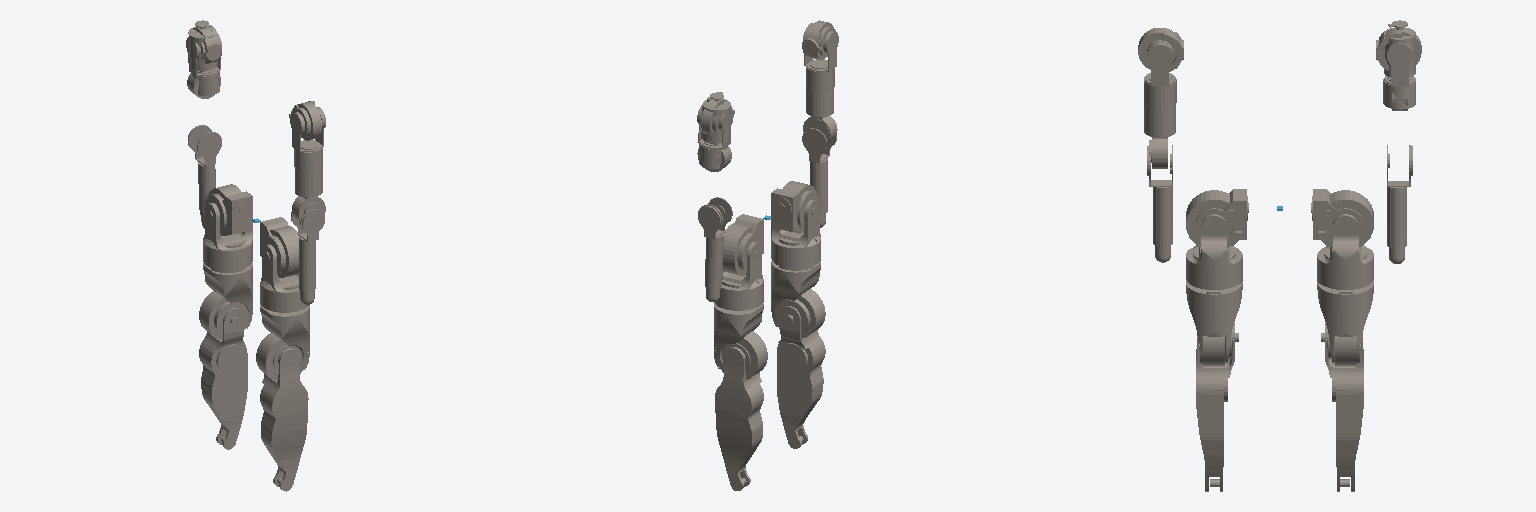
--- Facts derived from the render (not from the file) ---
3 views of the same robot in one strip: view 1: azimuth 30°, elevation 25°; view 2: azimuth 150°, elevation 25°; view 3: azimuth 270°, elevation 25° (orthographic).
Model e3 with 23 links and 22 joints (21 revolute, 1 fixed), rooted at pelvis_link, posed every joint at zero.
Visible links, largest first — view 1: right_knee_link, left_knee_link, left_hip_yaw_link, right_hip_yaw_link, left_hip_roll_link, right_hip_roll_link, right_elbow_link, left_hip_pitch_link, left_elbow_link, right_hip_pitch_link, right_shoulder_roll_link, right_shoulder_yaw_link (+4 smaller); view 2: left_knee_link, right_knee_link, right_hip_yaw_link, left_hip_yaw_link, right_hip_roll_link, left_elbow_link, left_hip_roll_link, right_hip_pitch_link, left_hip_pitch_link, right_elbow_link, right_shoulder_roll_link, right_shoulder_yaw_link (+3 smaller); view 3: left_knee_link, right_knee_link, left_hip_yaw_link, right_hip_yaw_link, left_hip_roll_link, right_hip_roll_link, left_hip_pitch_link, right_hip_pitch_link, left_elbow_link, right_elbow_link, right_shoulder_roll_link, left_shoulder_roll_link (+4 smaller).
Link boxes in pixels (<box>): right_knee_link: <box>260,348,308,491</box>; left_knee_link: <box>199,308,247,449</box>; left_hip_yaw_link: <box>199,263,252,339</box>; right_hip_yaw_link: <box>256,305,309,380</box>; left_hip_roll_link: <box>203,203,252,272</box>; right_hip_roll_link: <box>260,244,308,312</box>; right_elbow_link: <box>291,209,324,304</box>; left_hip_pitch_link: <box>205,184,252,235</box>; left_elbow_link: <box>188,125,221,228</box>; right_hip_pitch_link: <box>260,217,298,277</box>; right_shoulder_roll_link: <box>290,107,325,172</box>; right_shoulder_yaw_link: <box>292,168,325,221</box>; left_knee_link: <box>715,347,763,490</box>; right_knee_link: <box>777,306,825,448</box>; right_hip_yaw_link: <box>771,261,825,338</box>; left_hip_yaw_link: <box>714,303,767,379</box>; right_hip_roll_link: <box>771,200,820,270</box>; left_elbow_link: <box>698,197,732,301</box>; left_hip_roll_link: <box>714,242,763,310</box>; right_hip_pitch_link: <box>771,181,818,233</box>; left_hip_pitch_link: <box>723,214,763,275</box>; right_elbow_link: <box>802,128,836,227</box>; right_shoulder_roll_link: <box>803,31,838,91</box>; right_shoulder_yaw_link: <box>803,88,837,142</box>; left_knee_link: <box>1325,323,1363,491</box>; right_knee_link: <box>1196,323,1234,491</box>; left_hip_yaw_link: <box>1317,280,1373,365</box>; right_hip_yaw_link: <box>1186,280,1242,365</box>; left_hip_roll_link: <box>1317,214,1373,289</box>; right_hip_roll_link: <box>1186,214,1242,289</box>; left_hip_pitch_link: <box>1311,189,1373,247</box>; right_hip_pitch_link: <box>1186,189,1248,247</box>; left_elbow_link: <box>1387,145,1412,263</box>; right_elbow_link: <box>1147,145,1172,262</box>; right_shoulder_roll_link: <box>1144,42,1176,108</box>; left_shoulder_roll_link: <box>1383,43,1415,109</box>.
Size in the robot's own frame: 0.13 by 0.6095 by 1.11 metres.
Meshes: 22 distinct files referenced, 16 mesh visuals loaded (16 binary STL); not drawn: 6 (reference not matched to a file when rendering).

URDF robot description (e3):
<?xml version="1.0" encoding="utf-8"?>
<!-- This URDF was automatically created by SolidWorks to URDF Exporter! Originally created by Stephen Brawner ([email redacted]) 
     Commit Version: 1.6.0-4-g7f85cfe  Build Version: 1.6.7995.38578
     For more information, please see http://wiki.ros.org/sw_urdf_exporter -->
<robot name="e3">
  <!-- <mujoco>
    <compiler meshdir="meshes" discardvisual="false"/>
  </mujoco>
  <link name="world"></link>
  <joint name="floating_base_joint" type="floating">
    <parent link="world"/>
    <child link="pelvis_link"/>
  </joint> -->


  <link
    name="pelvis_link">
    <inertial>
      <origin
        xyz="0.000508 0.000303 0.035758"
        rpy="0 0 0" />
      <mass
        value="5.119835" />
      <inertia
        ixx="0.022863"
        ixy="0.000002"
        ixz="0.000106"
        iyy="0.019513"
        iyz="-0.000153"
        izz="0.012083" />
    </inertial>
    <visual>
      <origin
        xyz="0 0 0"
        rpy="0 0 0" />
      <geometry>
        <mesh
          filename="./meshes/pelvis.STL" />
      </geometry>
      <material
        name="">
        <color
          rgba="0.64706 0.61961 0.58824 1" />
      </material>
    </visual>
    <collision>
      <origin
        xyz="0 0 0"
        rpy="0 0 0" />
      <geometry>
        <mesh filename="meshes/pelvis.STL"/>
      </geometry>
    </collision>
  </link>

  <joint name="imu_joint" type="fixed">
    <origin rpy="0. 0. 0." xyz="0. 0. 0"/>
    <parent link="pelvis_link"/>
    <child link="imu_link"/>
  </joint>

    <!-- Imu link -->
  <link name="imu_link">
    <inertial>
      <mass value="0.01"/>
      <origin rpy="0 0 0" xyz="0 0 0"/>
      <inertia ixx="0.000001" ixy="0" ixz="0" iyy="0.000001" iyz="0" izz="0.000001"/>
    </inertial>
    <visual>
      <origin rpy="0 0 0" xyz="0 0 0"/>
      <geometry>
        <box size="0.015 0.015 0.004"/>
      </geometry>
    </visual>
    <material name="orange">
      <color rgba="255 108 10 255"/>
    </material>
  </link>

    <!-- Torso -->
  <joint name="waist_joint" type="revolute">
    <origin xyz="0 0 0.3763" rpy="0 0 0"/>
    <parent link="pelvis_link"/>
    <child link="torso_link"/>
    <axis xyz="0 0 1"/>
    <limit lower="-1.57" upper="1.57" effort="144" velocity="20"/>
  </joint>
  
  <link name="torso_link">
    <inertial>
      <origin xyz="-0.006939 -0.002038 -0.085719" rpy="0 0 0"/>
      <mass value="13.759631"/>
      <inertia ixx="0.327498" ixy="0.000705" ixz="0.001071" iyy="0.269489" iyz="-0.004427" izz="0.140454"/>
    </inertial>
    <visual>
      <origin xyz="0 0 0.0" rpy="0 0 0"/>
      <geometry>
        <mesh filename="meshes/torso_link.STL"/>
      </geometry>
      <material name="white">
        <color rgba="0.7 0.7 0.7 1"/>
      </material>
    </visual>
    <collision>
      <origin xyz="0 0 0.0" rpy="0 0 0"/>
      <geometry>
        <mesh filename="meshes/torso_link.STL"/>
      </geometry>
    </collision>
  </link>

  <link
    name="left_hip_pitch_link">
    <inertial>
      <origin  xyz="0.011949 -0.00848 -0.026594"  rpy="0 0 0" />
      <mass value="1.816901" />
      <inertia ixx="0.001651"  ixy="-0.000034"  ixz="0.000015"  iyy="0.000959"  iyz="0.000201"  izz="0.001576" />
    </inertial>
    <visual>
      <origin
        xyz="0 0 0"
        rpy="0 0 0" />
      <geometry>
        <mesh
          filename="./meshes/leg_l1_link.STL" />
      </geometry>
      <material
        name="">
        <color
          rgba="0.64706 0.61961 0.58824 1" />
      </material>
    </visual>
    <collision>
      <origin xyz="0 0 0.0" rpy="0 0 0"/>
      <geometry>
        <mesh filename="meshes/leg_l1_link.STL"/>
      </geometry>
    </collision>
  </link>
  <joint
    name="left_hip_pitch_joint"
    type="revolute">
    <origin
      xyz="0 0.1413 0"
      rpy="0 0 0" />
    <parent
      link="pelvis_link" />
    <child
      link="left_hip_pitch_link" />
    <axis
      xyz="0 1 0" />
    <limit
      lower="-2.53"
      upper="2.53"
      effort="144"
      velocity="20" />
  </joint>
  <link
    name="left_hip_roll_link">
    <inertial>
      <origin  xyz="-0.002932 0.000098 -0.097396"  rpy="0 0 0" />
      <mass  value="2.261445" />
      <inertia   ixx="0.005632" ixy="-0.000002" ixz="0.000169"  iyy="0.006378" iyz="0.000004" izz="0.004402" />
    </inertial>
    <visual>
      <origin
        xyz="0 0 0"
        rpy="0 0 0" />
      <geometry>
         
        <mesh
          filename="./meshes/leg_l2_link_144.STL" />
      </geometry>
      <material
        name="">
        <color
          rgba="0.64706 0.61961 0.58824 1" />
      </material>
    </visual>
    <!-- <collision>
      <origin
        xyz="0 0 0"
        rpy="0 1.57 0" />
      <geometry>
         <cylinder length="0.05" radius="0.06"/>
      </geometry>
    </collision> -->
    <collision>
      <origin xyz="0 0 0.0" rpy="0 0 0"/>
      <geometry>
        <mesh filename="meshes/leg_l2_link_144.STL"/>
      </geometry>
    </collision>
  </link>
  <joint
    name="left_hip_roll_joint"
    type="revolute">
    <origin
      xyz="0.0 0 -0.0285"
      rpy="0 0 0" />
    <parent
      link="left_hip_pitch_link" />
    <child
      link="left_hip_roll_link" />
    <axis
      xyz="1 0 0" />
    <limit
      lower="-0.611"
      upper="3.23"
      effort="144"
      velocity="20" />
  </joint>
  <link
    name="left_hip_yaw_link">
    <inertial>
      <origin xyz="-0.001336 -0.000844 -0.104378" rpy="0 0 0" />
      <mass value="2.233223" />
      <inertia  ixx="0.005397" ixy="-0.000015"  ixz="-0.000535" iyy="0.0057" iyz="0.000012"  izz="0.001962" />
    </inertial>
    <visual>
      <origin
        xyz="0 0 0"
        rpy="0 0 0" />
      <geometry>
        <mesh
          filename="./meshes/leg_l3_link_144.STL" />
      </geometry>
      <material
        name="">
        <color
          rgba="0.64706 0.61961 0.58824 1" />
      </material>
    </visual>
    <!-- <collision>
      <origin
        xyz="0 0 -0.05"
        rpy="0 0 0" />
      <geometry>
          <box size="0.05 0.05 0.15"/>
      </geometry>
    </collision> -->
    <collision>
      <origin xyz="0 0 0.0" rpy="0 0 0"/>
      <geometry>
        <mesh filename="meshes/leg_l3_link_144.STL"/>
      </geometry>
    </collision>
  </link>
  <joint
    name="left_hip_yaw_joint"
    type="revolute">
    <origin
      xyz="-0.0 0 -0.1458"
      rpy="0 0 0" />
    <parent
      link="left_hip_roll_link" />
    <child
      link="left_hip_yaw_link" />
    <axis
      xyz="0 0 1" />
    <limit
      lower="-1.05"
      upper="1.05"
      effort="144"
      velocity="20" />
  </joint>
  <link name="left_knee_link">
    <inertial>
      <origin  xyz="0.001004 0.001585 -0.170623"  rpy="0 0 0" />
      <mass  value="2.889750" />
      <inertia ixx="0.020628"  ixy="0.000043" ixz="0.000485"  iyy="0.021234"  iyz="-0.000475"  izz="0.002830" />
    </inertial>
    <visual>
      <origin
        xyz="0 0 0"
        rpy="0 0 0" />
      <geometry>
        <mesh
          filename="./meshes/leg_l4_link.STL" />
      </geometry>
      <material
        name="">
        <color
          rgba="0.64706 0.61961 0.58824 1" />
      </material>
    </visual>
    <collision>
      <origin
        xyz="0 0 -0.2"
        rpy="0 0 0" />
      <geometry>
          <box size="0.05 0.05 0.2"/>
      </geometry>
    </collision>
  </link>
  <joint
    name="left_knee_joint"
    type="revolute">
    <origin
      xyz="-0.008 0 -0.1317"
      rpy="0 0 0" />
    <parent
      link="left_hip_yaw_link" />
    <child
      link="left_knee_link" />
    <axis
      xyz="0 1 0" />
    <limit
      lower="-0.349"
      upper="2.355"
      effort="144"
      velocity="20" />
  </joint>

  <link
     name="left_ankle_pitch_link">
    <inertial>
      <origin  xyz="0 0 0"  rpy="0 0 0" />
      <mass  value="0.088534" />
       <!-- <inertia ixx="0.01" ixy="0" ixz="0.0" iyy="0.01" iyz="0" izz="0.01"/> -->
      <inertia
        ixx="3.0975E-05"
        ixy="0"
        ixz="0"
        iyy="3.1274E-05"
        iyz="0"
        izz="3.1681E-05" />
    </inertial>
    <visual>
      <origin
        xyz="0 0 0"
        rpy="0 0 0" />
      <geometry>
        <mesh
          filename="./meshes/leg_l5_link.STL" />
      </geometry>
      <material
        name="">
        <color
          rgba="0.64706 0.61961 0.58824 1" />
      </material>
    </visual>
  </link>
  
  <joint
    name="left_ankle_pitch_joint"
    type="revolute">
    <origin
      xyz="0 0 -0.35"
      rpy="0 0 0" />
    <parent
      link="left_knee_link" />
    <child
      link="left_ankle_pitch_link" />
    <axis
      xyz="0 1 0" />
    <limit
      lower="-0.785"
      upper="1.05"
      effort="48"
      velocity="20" />
  </joint>
  <link
    name="left_ankle_roll_link">
    <inertial>
      <origin xyz="-0.000705 1.4E-05 -0.028746"  rpy="0 0 0" />
      <mass  value="0.611" />
      <inertia ixx="0.01" ixy="0" ixz="0.0" iyy="0.01" iyz="0" izz="0.01"/>
      <!-- <inertia
        ixx="0.00105334189"
        ixy="-0.0"
        ixz="0.0"
        iyy="0.00606712875"
        iyz="0.0"
        izz="0.00646061141" /> -->
    </inertial>

    <visual>
      <origin
        xyz="0 0 0"
        rpy="0 0 0" />
      <geometry>
        <mesh
          filename="./meshes/leg_l6_link.STL" />
      </geometry>
      <material
        name="">
        <color
          rgba="0.64706 0.61961 0.58824 1" />
      </material>
    </visual>
    <collision>
      <origin rpy="0 0 0" xyz="0.01 0 -0.05"/>
      <geometry>
        <box size="0.22 0.06 0.01"/>
      </geometry>
    </collision>
     <!-- <collision>
      <origin
        xyz="0 0 0"
        rpy="0 0 0" />
      <geometry>
        <mesh
          filename="../meshes/leg_l6_link.STL" />
      </geometry>
    </collision> -->
  </link>
  <joint
    name="left_ankle_roll_joint"
    type="revolute">
    <origin
      xyz="0 0 0"
      rpy="0 0 0" />
    <parent
      link="left_ankle_pitch_link" />
    <child
      link="left_ankle_roll_link" />
    <axis
      xyz="1 0 0" />
    <limit
      lower="-0.26"
      upper="0.26"
      effort="48"
      velocity="20" />
  </joint>

  <link
   name="right_hip_pitch_link">
    <inertial>
      <origin  xyz="0.011914 0.008479 -0.026587"  rpy="0 0 0" />
      <mass value="1.816858" />
      <inertia ixx="0.001651"  ixy="0.000034"  ixz="0.000015"  iyy="0.000957"  iyz="-0.000201"  izz="0.001575" />
    </inertial>
    <visual>
      <origin
        xyz="0 0 0"
        rpy="0 0 0" />
      <geometry>
        <mesh
          filename="./meshes/leg_r1_link.STL" />
      </geometry>
      <material
        name="">
        <color
          rgba="0.64706 0.61961 0.58824 1" />
      </material>
    </visual>
    <collision>
      <origin
        xyz="0 0 0"
        rpy="0 0 0" />
      <geometry>
        <mesh
          filename="./meshes/leg_r1_link.STL" />
      </geometry>
    </collision>
  </link>
  <joint
    name="right_hip_pitch_joint"
    type="revolute">
    <origin
      xyz="0 -0.1413 0"
      rpy="0 0 0" />
    <parent
      link="pelvis_link" />
    <child
      link="right_hip_pitch_link" />
    <axis
      xyz="0 1 0" />
    <limit
      lower="-2.53"
      upper="2.53"
      effort="144"
      velocity="20" />
  </joint>
  <link
    name="right_hip_roll_link">
    <inertial>
      <origin  xyz="-0.002874 0.000215 -0.097305"  rpy="0 0 0" />
      <mass  value="2.020075" />
      <inertia   ixx="0.005648" ixy="-3E-6" ixz="0.000160"  iyy="0.006397" iyz="-0.000002" izz="0.004413" />
    </inertial>
    <visual>
      <origin
        xyz="0 0 0"
        rpy="0 0 0" />
      <geometry>
        <mesh
          filename="./meshes/leg_r2_link_144.STL" />
      </geometry>
      <material
        name="">
        <color
          rgba="0.64706 0.61961 0.58824 1" />
      </material>
    </visual>
    <!-- <collision>
      <origin
        xyz="0 0 0"
        rpy="0 1.57 0" />
      <geometry>
            <cylinder length="0.05" radius="0.06"/>
      </geometry>
    </collision> -->
    <collision>
      <origin
        xyz="0 0 0"
        rpy="0 0 0" />
      <geometry>
        <mesh
          filename="./meshes/leg_r2_link_144.STL" />
      </geometry>
    </collision>
  </link>
  <joint
    name="right_hip_roll_joint"
    type="revolute">
    <origin
      xyz="0 0 -0.0285"
      rpy="0 0 0" />
    <parent
      link="right_hip_pitch_link" />
    <child
      link="right_hip_roll_link" />
    <axis
      xyz="1 0 0" />
    <limit
      lower="-3.23"
      upper="0.611"
      effort="144"
      velocity="20" />
  </joint>
  <link
    name="right_hip_yaw_link">
    <inertial>
      <origin xyz="0.000912 0.001350 -0.104391" rpy="0 0 0" />
      <mass value="2.231719" />
      <inertia  ixx="0.005690" ixy="-0.000016"  ixz="-0.000008" iyy="0.005388" iyz="0.000535"  izz="0.001958" />
    </inertial>
    <visual>
      <origin
        xyz="0 0 0"
        rpy="0 0 0" />
      <geometry>
        <mesh
          filename="./meshes/leg_r3_link_144.STL" />
      </geometry>
      <material
        name="">
        <color
          rgba="0.64706 0.61961 0.58824 1" />
      </material>
    </visual>
    <!-- <collision>
      <origin
        xyz="0 0 -0.05"
        rpy="0 0 0" />
      <geometry>
           <box size="0.05 0.05 0.15"/>
      </geometry>
    </collision> -->
    <collision>
      <origin
        xyz="0 0 0"
        rpy="0 0 0" />
      <geometry>
        <mesh
          filename="./meshes/leg_r3_link_144.STL" />
      </geometry>
    </collision>
  </link>
  <joint
    name="right_hip_yaw_joint"
    type="revolute">
    <origin
      xyz="0 0 -0.1458"
      rpy="0 0 0" />
    <parent
      link="right_hip_roll_link" />
    <child
      link="right_hip_yaw_link" />
    <axis
      xyz="0 0 1" />
    <limit
      lower="-1.05"
      upper="1.05"
      effort="144"
      velocity="20" />
  </joint>
  <link
    name="right_knee_link">
    <inertial>
      <origin  xyz="-0.001668 -0.001457 -0.178503"  rpy="0 0 0" />
      <mass  value="2.866292" />
      <inertia ixx="0.022193"  ixy="-0.000046" ixz="-0.000519"  iyy="0.023014"  iyz="0.000295"  izz="0.002999" />
    </inertial>
    <visual>
      <origin
        xyz="0 0 0"
        rpy="0 0 0" />
      <geometry>
        <mesh
          filename="./meshes/leg_r4_link.STL" />
      </geometry>
      <material
        name="">
        <color
          rgba="0.64706 0.61961 0.58824 1" />
      </material>
    </visual>
    <collision>
      <origin
        xyz="0 0 -0.2"
        rpy="0 0 0" />
      <geometry>
          <box size="0.05 0.05 0.2"/>
      </geometry>
    </collision>
  </link>
  <joint
    name="right_knee_joint"
    type="revolute">
    <origin
      xyz="-0.008 0 -0.1317"
      rpy="0 0 0" />
    <parent
      link="right_hip_yaw_link" />
    <child
      link="right_knee_link" />
    <axis
      xyz="0 1 0" />
    <limit
      lower="-0.349"
      upper="2.355"
      effort="144"
      velocity="20" />
  </joint>

  <link name="right_ankle_pitch_link">
    <inertial>
      <origin  xyz="0 0 0"  rpy="0 0 0" />
      <mass  value="0.088534" />
      <!-- <inertia ixx="0.01" ixy="0" ixz="0" iyy="0.01" iyz="0" izz="0.01"/> -->
      <inertia
        ixx="3.0975E-05"
        ixy="0"
        ixz="0"
        iyy="3.1274E-05"
        iyz="0"
        izz="3.1274E-05" />

    </inertial>

    <visual>
      <origin
        xyz="0 0 0"
        rpy="0 0 0" />
      <geometry>
        <mesh
          filename="./meshes/leg_r5_link.STL" />
      </geometry>
      <material
        name="">
        <color
          rgba="0.64706 0.61961 0.58824 1" />
      </material>
    </visual>
  </link>
  <joint
    name="right_ankle_pitch_joint"
    type="revolute">
    <origin
      xyz="0 0 -0.35"
      rpy="0 0 0" />
    <parent
      link="right_knee_link" />
    <child
      link="right_ankle_pitch_link" />
    <axis
      xyz="0 1 0" />
    <limit
      lower="-0.785"
      upper="1.05"
      effort="48"
      velocity="20" />
  </joint>
  <link
    name="right_ankle_roll_link">
    <inertial>
      <origin xyz="-0.000705 1.4E-05 -0.028746"  rpy="0 0 0" />
      <mass  value="0.611" />
      <inertia ixx="0.01" ixy="0" ixz="0.0" iyy="0.01" iyz="0" izz="0.01"/>
      <!-- <inertia
        ixx="0.00105336111"
        ixy="0.0"
        ixz="0.0"
        iyy="0.00606728572"
        iyz="-0.0"
        izz="0.00646075577" /> -->
    </inertial>

    <visual>
      <origin
        xyz="0 0 0"
        rpy="0 0 0" />
      <geometry>
        <mesh
          filename="./meshes/leg_r6_link.STL" />
      </geometry>
      <material
        name="">
        <color
          rgba="0.64706 0.61961 0.58824 1" />
      </material>
    </visual>
    <collision>
      <origin rpy="0 0 0" xyz="0.01 0 -0.05"/>
      <geometry>
        <box size="0.22 0.06 0.01"/>
      </geometry>
    </collision>
    <!-- <collision>
      <origin
        xyz="0 0 0"
        rpy="0 0 0" />
      <geometry>
        <mesh
          filename="../meshes/leg_r6_link.STL" />
      </geometry>
    </collision> -->
  </link>
  <joint
    name="right_ankle_roll_joint"
    type="revolute">
    <origin
      xyz="0 0 0"
      rpy="0 0 0" />
    <parent
      link="right_ankle_pitch_link" />
    <child
      link="right_ankle_roll_link" />
    <axis
      xyz="1 0 0" />
    <limit
      lower="-0.26"
      upper="0.26"
      effort="48"
      velocity="20" />
  </joint>
  <link
    name="left_shoulder_pitch_link">
    <inertial>
      <origin  xyz="-0.003432 -0.009458 -0.00891"  rpy="0 0 0" />
      <mass  value="0.859213" />
      <inertia ixx="0.001249"  ixy="0.000029"  ixz="0.000022"  iyy="0.000590"  iyz="0.000026" izz="0.000975" />
    </inertial>
    <visual>
      <origin
        xyz="0 0 0"
        rpy="0 0 0" />
      <geometry>
        <mesh
          filename="meshes/arm_l1_link.STL" />
      </geometry>
      <material
        name="">
        <color
          rgba="0.64706 0.61961 0.58824 1" />
      </material>
    </visual>
    <!-- <collision>
      <origin
        xyz="0 0 0"
        rpy="0 0 0" />
      <geometry>
        <mesh
          filename="meshes/arm_l1_link.STL" />
      </geometry>
    </collision> -->
  </link>

  <joint
    name="left_shoulder_pitch_joint"
    type="revolute">
    <origin
      xyz="0 0.25799 0.0"
      rpy="0 0 0" />
    <parent
      link="torso_link" />
    <child
      link="left_shoulder_pitch_link" />
    <axis
      xyz="0 1 0" />
    <limit
      lower="-2.74"
      upper="1.96"
      effort="24"
      velocity="20" />
  </joint>

  <link
    name="left_shoulder_roll_link">
    <inertial>
      <origin xyz="0.004195 0.000475 -0.057018"  rpy="0 0 0" />
      <mass  value="0.701407" />
      <inertia  ixx="0.001561"  ixy="-0.000083"  ixz="-0.000173"  iyy="0.001606"  iyz="0.000003"  izz="0.000973" />
    </inertial>
    <visual>
      <origin
        xyz="0 0 0"
        rpy="0 0 0" />
      <geometry>
        <mesh
          filename="meshes/arm_l2_link.STL" />
      </geometry>
      <material
        name="">
        <color
          rgba="0.64706 0.61961 0.58824 1" />
      </material>
    </visual>
    <!-- <collision>
      <origin
        xyz="0 0 0"
        rpy="0 0 0" />
      <geometry>
        <mesh
          filename="meshes/arm_l2_link.STL" />
      </geometry>
    </collision> -->
  </link>

  <joint
    name="left_shoulder_roll_joint"
    type="revolute">
    <origin
      xyz="0 0 0"
      rpy="0 0 0" />
    <parent
      link="left_shoulder_pitch_link" />
    <child
      link="left_shoulder_roll_link" />
    <axis
      xyz="1 0 0.0" />
    <limit
      lower="-0.17"
      upper="3.01"
      effort="24"
      velocity="20" />
  </joint>
  <link
    name="left_shoulder_yaw_link">
    <inertial>
      <origin xyz="-0.000223 0.000795 -0.127372"  rpy="0 0 0" />
      <mass  value="0.541958" />
      <inertia  ixx="0.001426"  ixy="-0.000028"  ixz="0.000073"  iyy="0.001848"  iyz="-0.000004"  izz="0.000644" />
    </inertial>
    <visual>
      <origin
        xyz="0 0 0"
        rpy="0 0 0" />
      <geometry>
        <mesh
          filename="meshes/arm_l3_link.STL" />
      </geometry>
      <material
        name="">
        <color
          rgba="0.64706 0.61961 0.58824 1" />
      </material>
    </visual>
    <collision>
      <origin
        xyz="0 0 0"
        rpy="0 0 0" />
      <geometry>
        <mesh
          filename="meshes/arm_l3_link.STL" />
      </geometry>
    </collision>
  </link>
  <joint
    name="left_shoulder_yaw_joint"
    type="revolute">
    <origin
      xyz="0 0 -0.1019"
      rpy="0 0 0" />
    <parent
      link="left_shoulder_roll_link" />
    <child
      link="left_shoulder_yaw_link" />
    <axis
      xyz="0 0 1" />
    <limit
      lower="-3.14"
      upper="1.57"
      effort="5"
      velocity="20" />
  </joint>
 <link
    name="left_elbow_link">
    <inertial>
      <origin xyz="0.103629 0.001055 -0.003321"  rpy="0 0 0" />
      <mass  value="0.368568" />
      <inertia  ixx="0.000281"  ixy="0.0000025"  ixz="-0.000126"  iyy="0.002877"  iyz="0.000002"  izz="0.002879" />
    </inertial>
    <visual>
      <origin
        xyz="0 0 0"
        rpy="0 0 0" />
      <geometry>
        <mesh
          filename="meshes/arm_l4_link.STL" />
      </geometry>
      <material
        name="">
        <color
          rgba="0.64706 0.61961 0.58824 1" />
      </material>
    </visual>
    <collision>
      <origin
        xyz="0 0 0"
        rpy="0 0 0" />
      <geometry>
        <mesh
          filename="meshes/arm_l4_link.STL" />
      </geometry>
    </collision>
  </link>
  <joint
    name="left_elbow_joint"
    type="revolute">
    <origin
      xyz="0 -0.0062 -0.1616"
      rpy="0 0 0" />
    <parent
      link="left_shoulder_yaw_link" />
    <child
      link="left_elbow_link" />
    <axis
      xyz="0 1 0" />
    <limit
      lower="-0.9"
      upper="1.57"
      effort="5"
      velocity="20" />
  </joint>

  <link
    name="right_shoulder_pitch_link">
     <inertial>
      <origin  xyz="-0.003672 0.009404 -0.000747"  rpy="0 0 0" />
      <mass  value="0.870023" />
      <inertia ixx="0.001279"  ixy="-0.000030"  ixz="0.000016"  iyy="0.000567"  iyz="-0.000017" izz="0.001006" />
    </inertial>
    <visual>
      <origin
        xyz="0 0 0"
        rpy="0 0 0" />
      <geometry>
        <mesh
          filename="meshes/arm_r1_link.STL" />
      </geometry>
      <material
        name="">
        <color
          rgba="0.64706 0.61961 0.58824 1" />
      </material>
    </visual>
    <!-- <collision>
      <origin
        xyz="0 0 0"
        rpy="0 0 0" />
      <geometry>
        <mesh
          filename="meshes/arm_r1_link.STL" />
      </geometry>
    </collision> -->
  </link>

  <joint
    name="right_shoulder_pitch_joint"
    type="revolute">
    <origin
      xyz="0 -0.25799 0.0"
      rpy="0 0 0" />
    <parent
      link="torso_link" />
    <child
      link="right_shoulder_pitch_link" />
    <axis
      xyz="0 1 0" />
    <limit
      lower="-2.74"
      upper="1.96"
      effort="24"
      velocity="20" />
  </joint>
  <link
    name="right_shoulder_roll_link">
    <inertial>
      <origin xyz="0.004341 -0.000257 -0.056511"  rpy="0 0 0" />
      <mass  value="0.712915" />
      <inertia  ixx="0.001609"  ixy="0.000016"  ixz="-0.000130"  iyy="0.001425"  iyz="0.000013"  izz="0.001160" />
    </inertial>
    <visual>
      <origin
        xyz="0 0 0"
        rpy="0 0 0" />
      <geometry>
        <mesh
          filename="meshes/arm_r2_link.STL" />
      </geometry>
      <material
        name="">
        <color
          rgba="0.64706 0.61961 0.58824 1" />
      </material>
    </visual>
    <!-- <collision>
      <origin
        xyz="0 0 0"
        rpy="0 0 0" />
      <geometry>
        <mesh
          filename="meshes/arm_r2_link.STL" />
      </geometry>
    </collision> -->
  </link>
  <joint
    name="right_shoulder_roll_joint"
    type="revolute">
    <origin
      xyz="0 0 0"
      rpy="0 0 0" />
    <parent
      link="right_shoulder_pitch_link" />
    <child
      link="right_shoulder_roll_link" />
    <axis
      xyz="1 0 0" />
    <limit
      lower="-3.01"
      upper="0.17"
      effort="24"
      velocity="20" />
  </joint>
  <link
    name="right_shoulder_yaw_link">
    <inertial>
      <origin xyz="-0.000140 -0.000801 -0.127387"  rpy="0 0 0" />
      <mass  value="0.541111" />
      <inertia  ixx="0.001408"  ixy="0.000026"  ixz="0.000001"  iyy="0.001836"  iyz="0.000016"  izz="0.000643" />
    </inertial>
    <visual>
      <origin
        xyz="0 0 0"
        rpy="0 0 0" />
      <geometry>
        <mesh
          filename="meshes/arm_r3_link.STL" />
      </geometry>
      <material
        name="">
        <color
          rgba="0.64706 0.61961 0.58824 1" />
      </material>
    </visual>
    <collision>
      <origin
        xyz="0 0 0"
        rpy="0 0 0" />
      <geometry>
        <mesh
          filename="meshes/arm_r3_link.STL" />
      </geometry>
    </collision>
  </link>
  <joint
    name="right_shoulder_yaw_joint"
    type="revolute">
    <origin
      xyz="0 0 -0.1019"
      rpy="0 0 0" />
    <parent
      link="right_shoulder_roll_link" />
    <child
      link="right_shoulder_yaw_link" />
    <axis
      xyz="0 0 1" />
    <limit
      lower="-1.57"
      upper="3.14"
      effort="5"
      velocity="20" />
  </joint>
 <link
    name="right_elbow_link">
    <inertial>
      <origin xyz="0.103611 -0.001052 -0.003324"  rpy="0 0 0" />
      <mass  value="0.368568" />
      <inertia  ixx="0.000281"  ixy="-0.0000025"  ixz="-0.000126"  iyy="0.002878"  iyz="-0.000002"  izz="0.002879" />
    </inertial>
    <visual>
      <origin
        xyz="0 0 0"
        rpy="0 0 0" />
      <geometry>
        <mesh
          filename="meshes/arm_r4_link.STL" />
      </geometry>
      <material
        name="">
        <color
          rgba="0.64706 0.61961 0.58824 1" />
      </material>
    </visual>
    <collision>
      <origin
        xyz="0 0 0"
        rpy="0 0 0" />
      <geometry>
        <mesh
          filename="meshes/arm_r4_link.STL" />
      </geometry>
    </collision>
  </link>
  <joint name="right_elbow_joint"  type="revolute">
    <origin
      xyz="0 0.0062 -0.1616"
      rpy="0 0 0" />
    <parent
      link="right_shoulder_yaw_link" />
    <child
      link="right_elbow_link" />
    <axis
      xyz="0 1 0" />
    <limit
      lower="-0.9"
      upper="1.57"
      effort="5"
      velocity="20" />
  </joint>
</robot>
